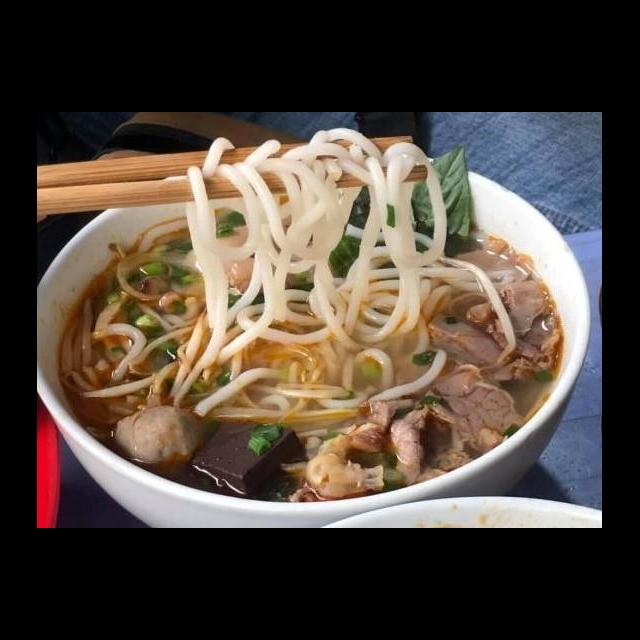bun: (176, 132, 452, 348), (188, 309, 452, 424), (56, 288, 205, 402)
bun bo: (72, 133, 544, 489)
thit bo: (360, 385, 470, 488), (424, 310, 566, 386), (424, 361, 528, 458)
